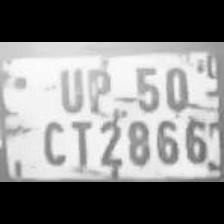0: (160, 60, 190, 110)
2: (94, 112, 122, 172)
5: (130, 62, 160, 112)
6: (180, 112, 208, 168), (152, 116, 180, 168)
8: (123, 115, 151, 169)
C: (36, 115, 68, 167)
P: (83, 61, 113, 112)
T: (66, 115, 94, 171)
U: (55, 62, 85, 113)
